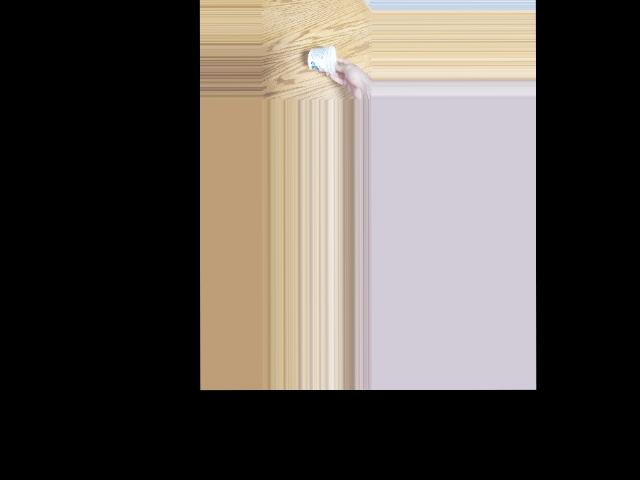cotage: (308, 40, 336, 68)
